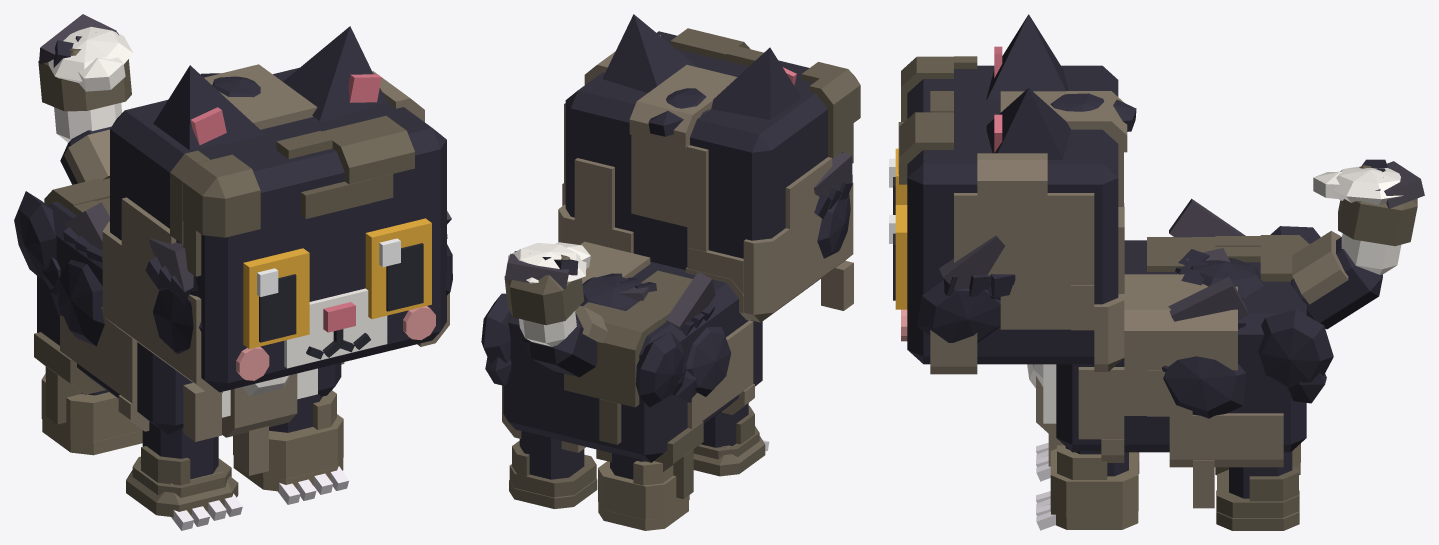
File: CleanACat_Cat_Tux_Dirty.fbx
The picture shows the model from 3 angles, left to right: view 1: azimuth 30°, elevation 25°; view 2: azimuth 150°, elevation 25°; view 3: azimuth 270°, elevation 25°; orthographic projection. The views are drawn at different scales.
Visible parts, largest first — view 1: CleanACat_Cat_Tux_Dirty_Head, CleanACat_Cat_Tux_Dirty_Mud01, CleanACat_Cat_Tux_Dirty_Mud03, CleanACat_Cat_Tux_Dirty_Mud06, CleanACat_Cat_Tux_Dirty_Body, CleanACat_Cat_Tux_Dirty_Eye2, CleanACat_Cat_Tux_Dirty_Eye1, CleanACat_Cat_Tux_Dirty_EarL, CleanACat_Cat_Tux_Dirty_Mud15, CleanACat_Cat_Tux_Dirty_EarR, CleanACat_Cat_Tux_Dirty_Mud16, CleanACat_Cat_Tux_Dirty_Mud18 (+19 smaller); view 2: CleanACat_Cat_Tux_Dirty_Head, CleanACat_Cat_Tux_Dirty_Body, CleanACat_Cat_Tux_Dirty_Mud01, CleanACat_Cat_Tux_Dirty_Mud04, CleanACat_Cat_Tux_Dirty_Mud09, CleanACat_Cat_Tux_Dirty_Mud18, CleanACat_Cat_Tux_Dirty_Mud05, CleanACat_Cat_Tux_Dirty_EarL, CleanACat_Cat_Tux_Dirty_EarR, CleanACat_Cat_Tux_Dirty_Mud10, CleanACat_Cat_Tux_Dirty_Tail, CleanACat_Cat_Tux_Dirty_Mud06 (+23 smaller); view 3: CleanACat_Cat_Tux_Dirty_Head, CleanACat_Cat_Tux_Dirty_Mud02, CleanACat_Cat_Tux_Dirty_Body, CleanACat_Cat_Tux_Dirty_Mud08, CleanACat_Cat_Tux_Dirty_Mud11, CleanACat_Cat_Tux_Dirty_Mud15, CleanACat_Cat_Tux_Dirty_Fluff09, CleanACat_Cat_Tux_Dirty_Tail, CleanACat_Cat_Tux_Dirty_Mud17, CleanACat_Cat_Tux_Dirty_EarL, CleanACat_Cat_Tux_Dirty_EarR, CleanACat_Cat_Tux_Dirty_Mud13 (+22 smaller).
Boxes of the visible parts, x1,y1,x2,y2 form: CleanACat_Cat_Tux_Dirty_Head: (110, 67, 446, 392); CleanACat_Cat_Tux_Dirty_Mud01: (102, 197, 222, 441); CleanACat_Cat_Tux_Dirty_Mud03: (276, 115, 414, 218); CleanACat_Cat_Tux_Dirty_Mud06: (170, 150, 260, 276); CleanACat_Cat_Tux_Dirty_Body: (37, 201, 341, 434); CleanACat_Cat_Tux_Dirty_Eye2: (243, 248, 309, 348); CleanACat_Cat_Tux_Dirty_Eye1: (365, 218, 431, 319); CleanACat_Cat_Tux_Dirty_EarL: (283, 26, 386, 120); CleanACat_Cat_Tux_Dirty_Mud15: (233, 390, 343, 491); CleanACat_Cat_Tux_Dirty_EarR: (153, 65, 264, 150); CleanACat_Cat_Tux_Dirty_Mud16: (126, 446, 238, 517); CleanACat_Cat_Tux_Dirty_Mud18: (41, 367, 142, 455); CleanACat_Cat_Tux_Dirty_Head: (565, 31, 832, 269); CleanACat_Cat_Tux_Dirty_Body: (503, 261, 762, 462); CleanACat_Cat_Tux_Dirty_Mud01: (687, 157, 853, 322); CleanACat_Cat_Tux_Dirty_Mud04: (629, 65, 737, 251); CleanACat_Cat_Tux_Dirty_Mud09: (564, 297, 661, 444); CleanACat_Cat_Tux_Dirty_Mud18: (598, 461, 689, 530); CleanACat_Cat_Tux_Dirty_Mud05: (558, 158, 633, 253); CleanACat_Cat_Tux_Dirty_EarL: (602, 14, 697, 92); CleanACat_Cat_Tux_Dirty_EarR: (711, 47, 800, 119); CleanACat_Cat_Tux_Dirty_Mud10: (685, 267, 754, 428); CleanACat_Cat_Tux_Dirty_Tail: (519, 311, 597, 377); CleanACat_Cat_Tux_Dirty_Mud06: (801, 62, 860, 163); CleanACat_Cat_Tux_Dirty_Head: (901, 65, 1118, 364); CleanACat_Cat_Tux_Dirty_Mud02: (930, 153, 1094, 374); CleanACat_Cat_Tux_Dirty_Body: (1043, 240, 1306, 452); CleanACat_Cat_Tux_Dirty_Mud08: (1124, 274, 1237, 416); CleanACat_Cat_Tux_Dirty_Mud11: (1169, 413, 1283, 508); CleanACat_Cat_Tux_Dirty_Mud15: (1050, 445, 1138, 529); CleanACat_Cat_Tux_Dirty_Fluff09: (1258, 309, 1333, 403); CleanACat_Cat_Tux_Dirty_Tail: (1291, 233, 1401, 329); CleanACat_Cat_Tux_Dirty_Mud17: (1216, 467, 1299, 530); CleanACat_Cat_Tux_Dirty_EarL: (986, 88, 1070, 159); CleanACat_Cat_Tux_Dirty_EarR: (986, 14, 1068, 100); CleanACat_Cat_Tux_Dirty_Mud13: (1078, 367, 1124, 462).
Bounding box in the file's own units: 1.13 × 1.86 × 2.03.
1 material, 1 textured.
